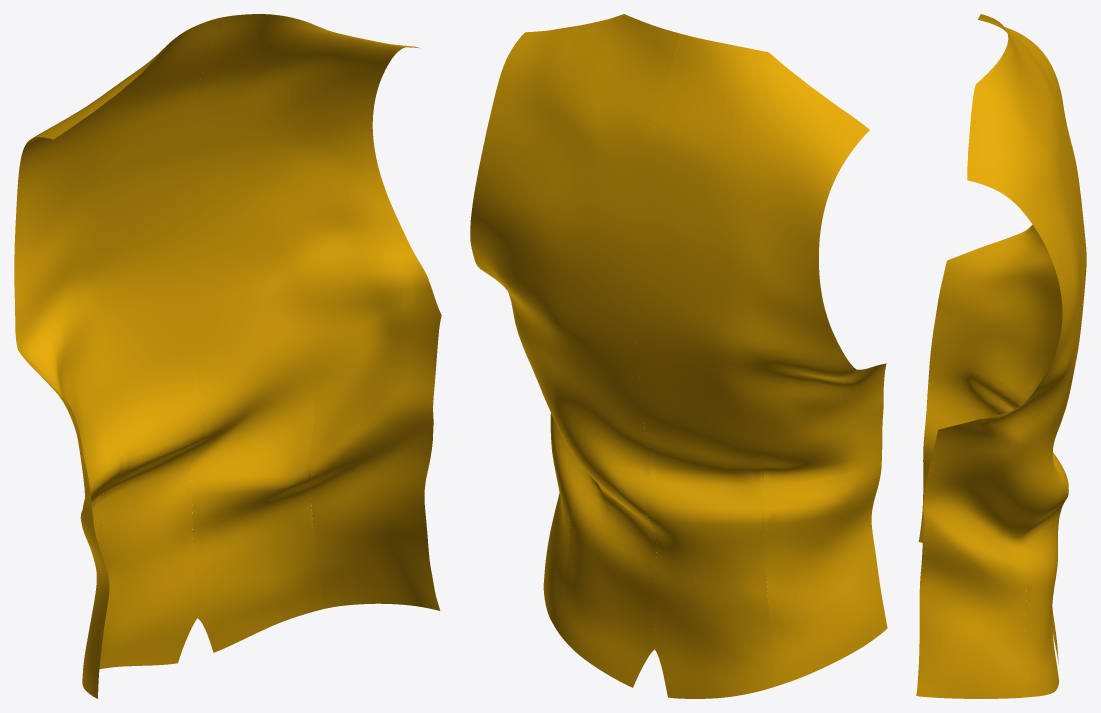
File: Back_High.fbx
3 views of the same model, side by side, from view 1: azimuth 30°, elevation 25°; view 2: azimuth 150°, elevation 25°; view 3: azimuth 270°, elevation 25° (orthographic). The views are drawn at different scales.
Parts seen in each view (by area): view 1: Back_High; view 2: Back_High; view 3: Back_High.
Part boxes in pixels (<box>): Back_High: <box>14,14,441,698</box>; Back_High: <box>470,14,887,698</box>; Back_High: <box>916,14,1086,698</box>.
Bounding box in the file's own units: 37.67 × 60.75 × 14.82.
